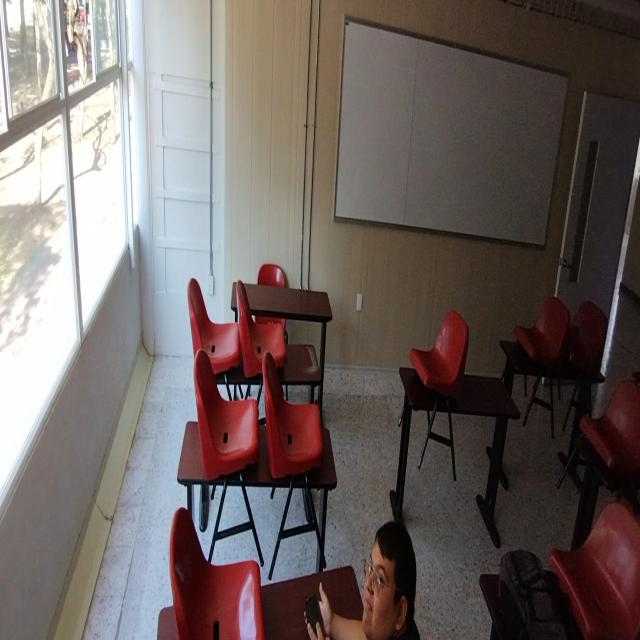adult: (303, 518, 420, 640)
